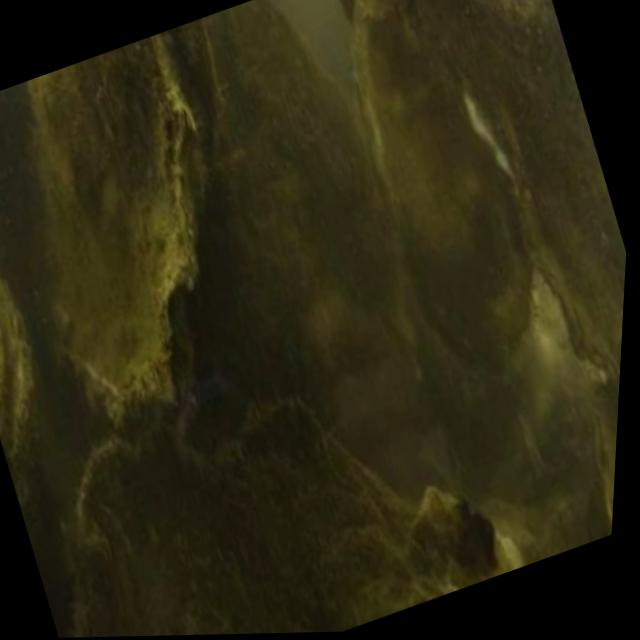Oyster-Indeterminate: (76, 409, 515, 638), (392, 0, 626, 382), (0, 30, 207, 438), (197, 0, 404, 390), (355, 0, 533, 378), (0, 269, 37, 524), (586, 371, 620, 520)
